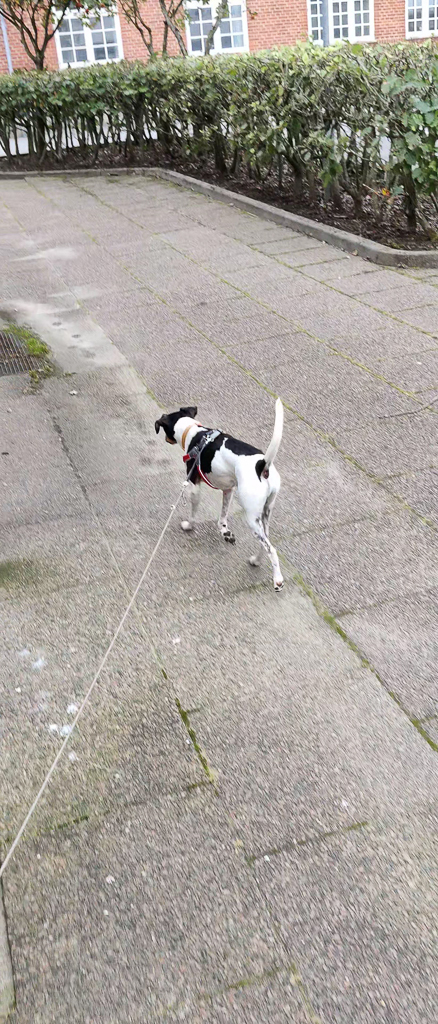Dog: (145, 383, 309, 611)
